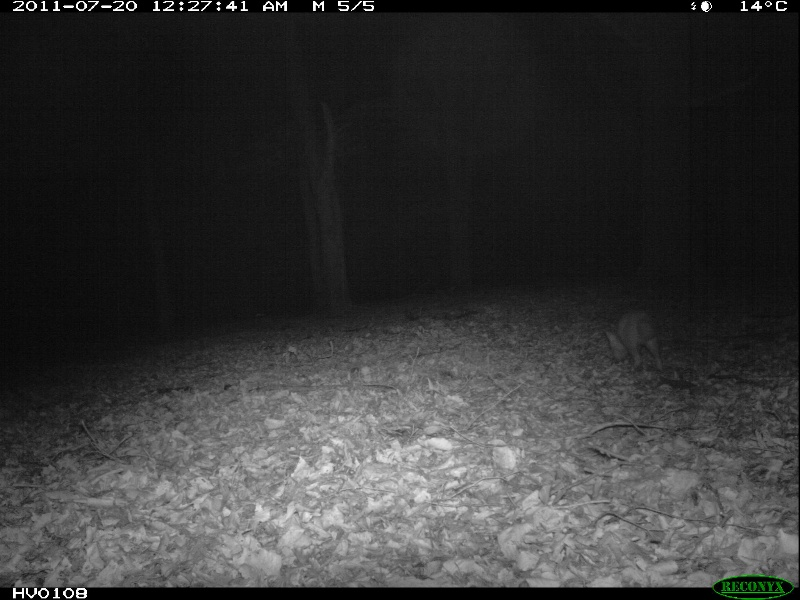fox: (602, 306, 666, 376)
